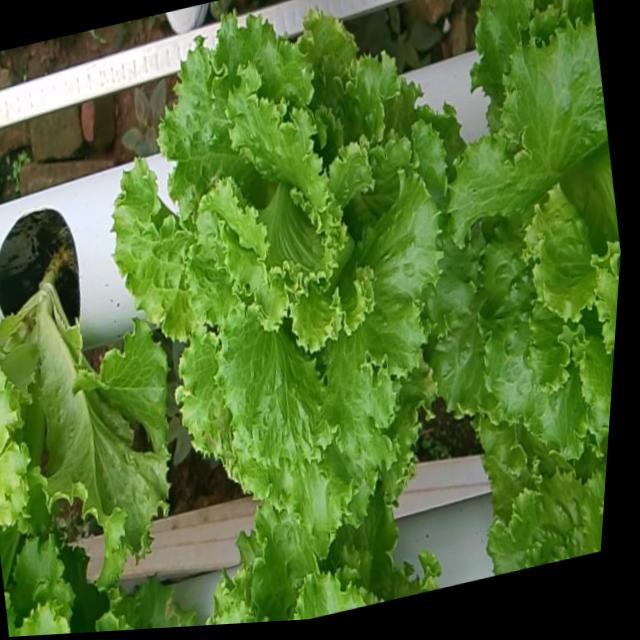Mature: (108, 16, 442, 537), (425, 10, 620, 457)
